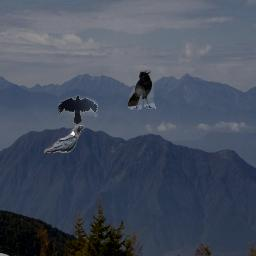Crow: (58, 95, 98, 124), (44, 125, 84, 153), (128, 70, 156, 110)
